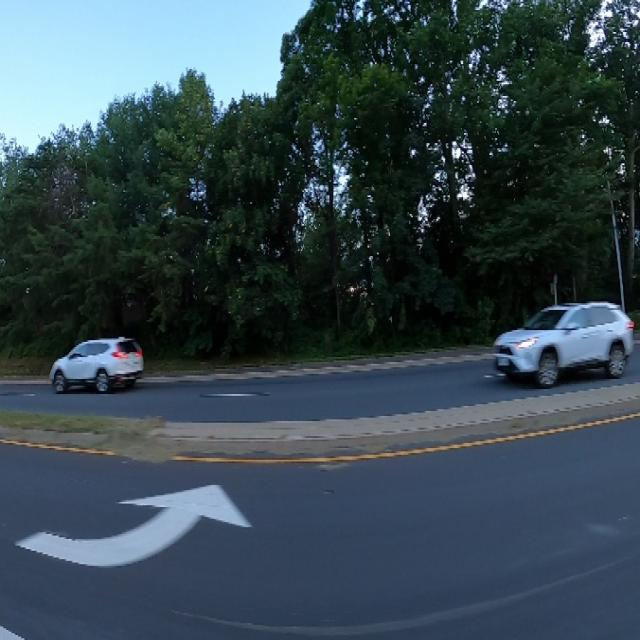car: (485, 285, 637, 418), (37, 320, 149, 403)
